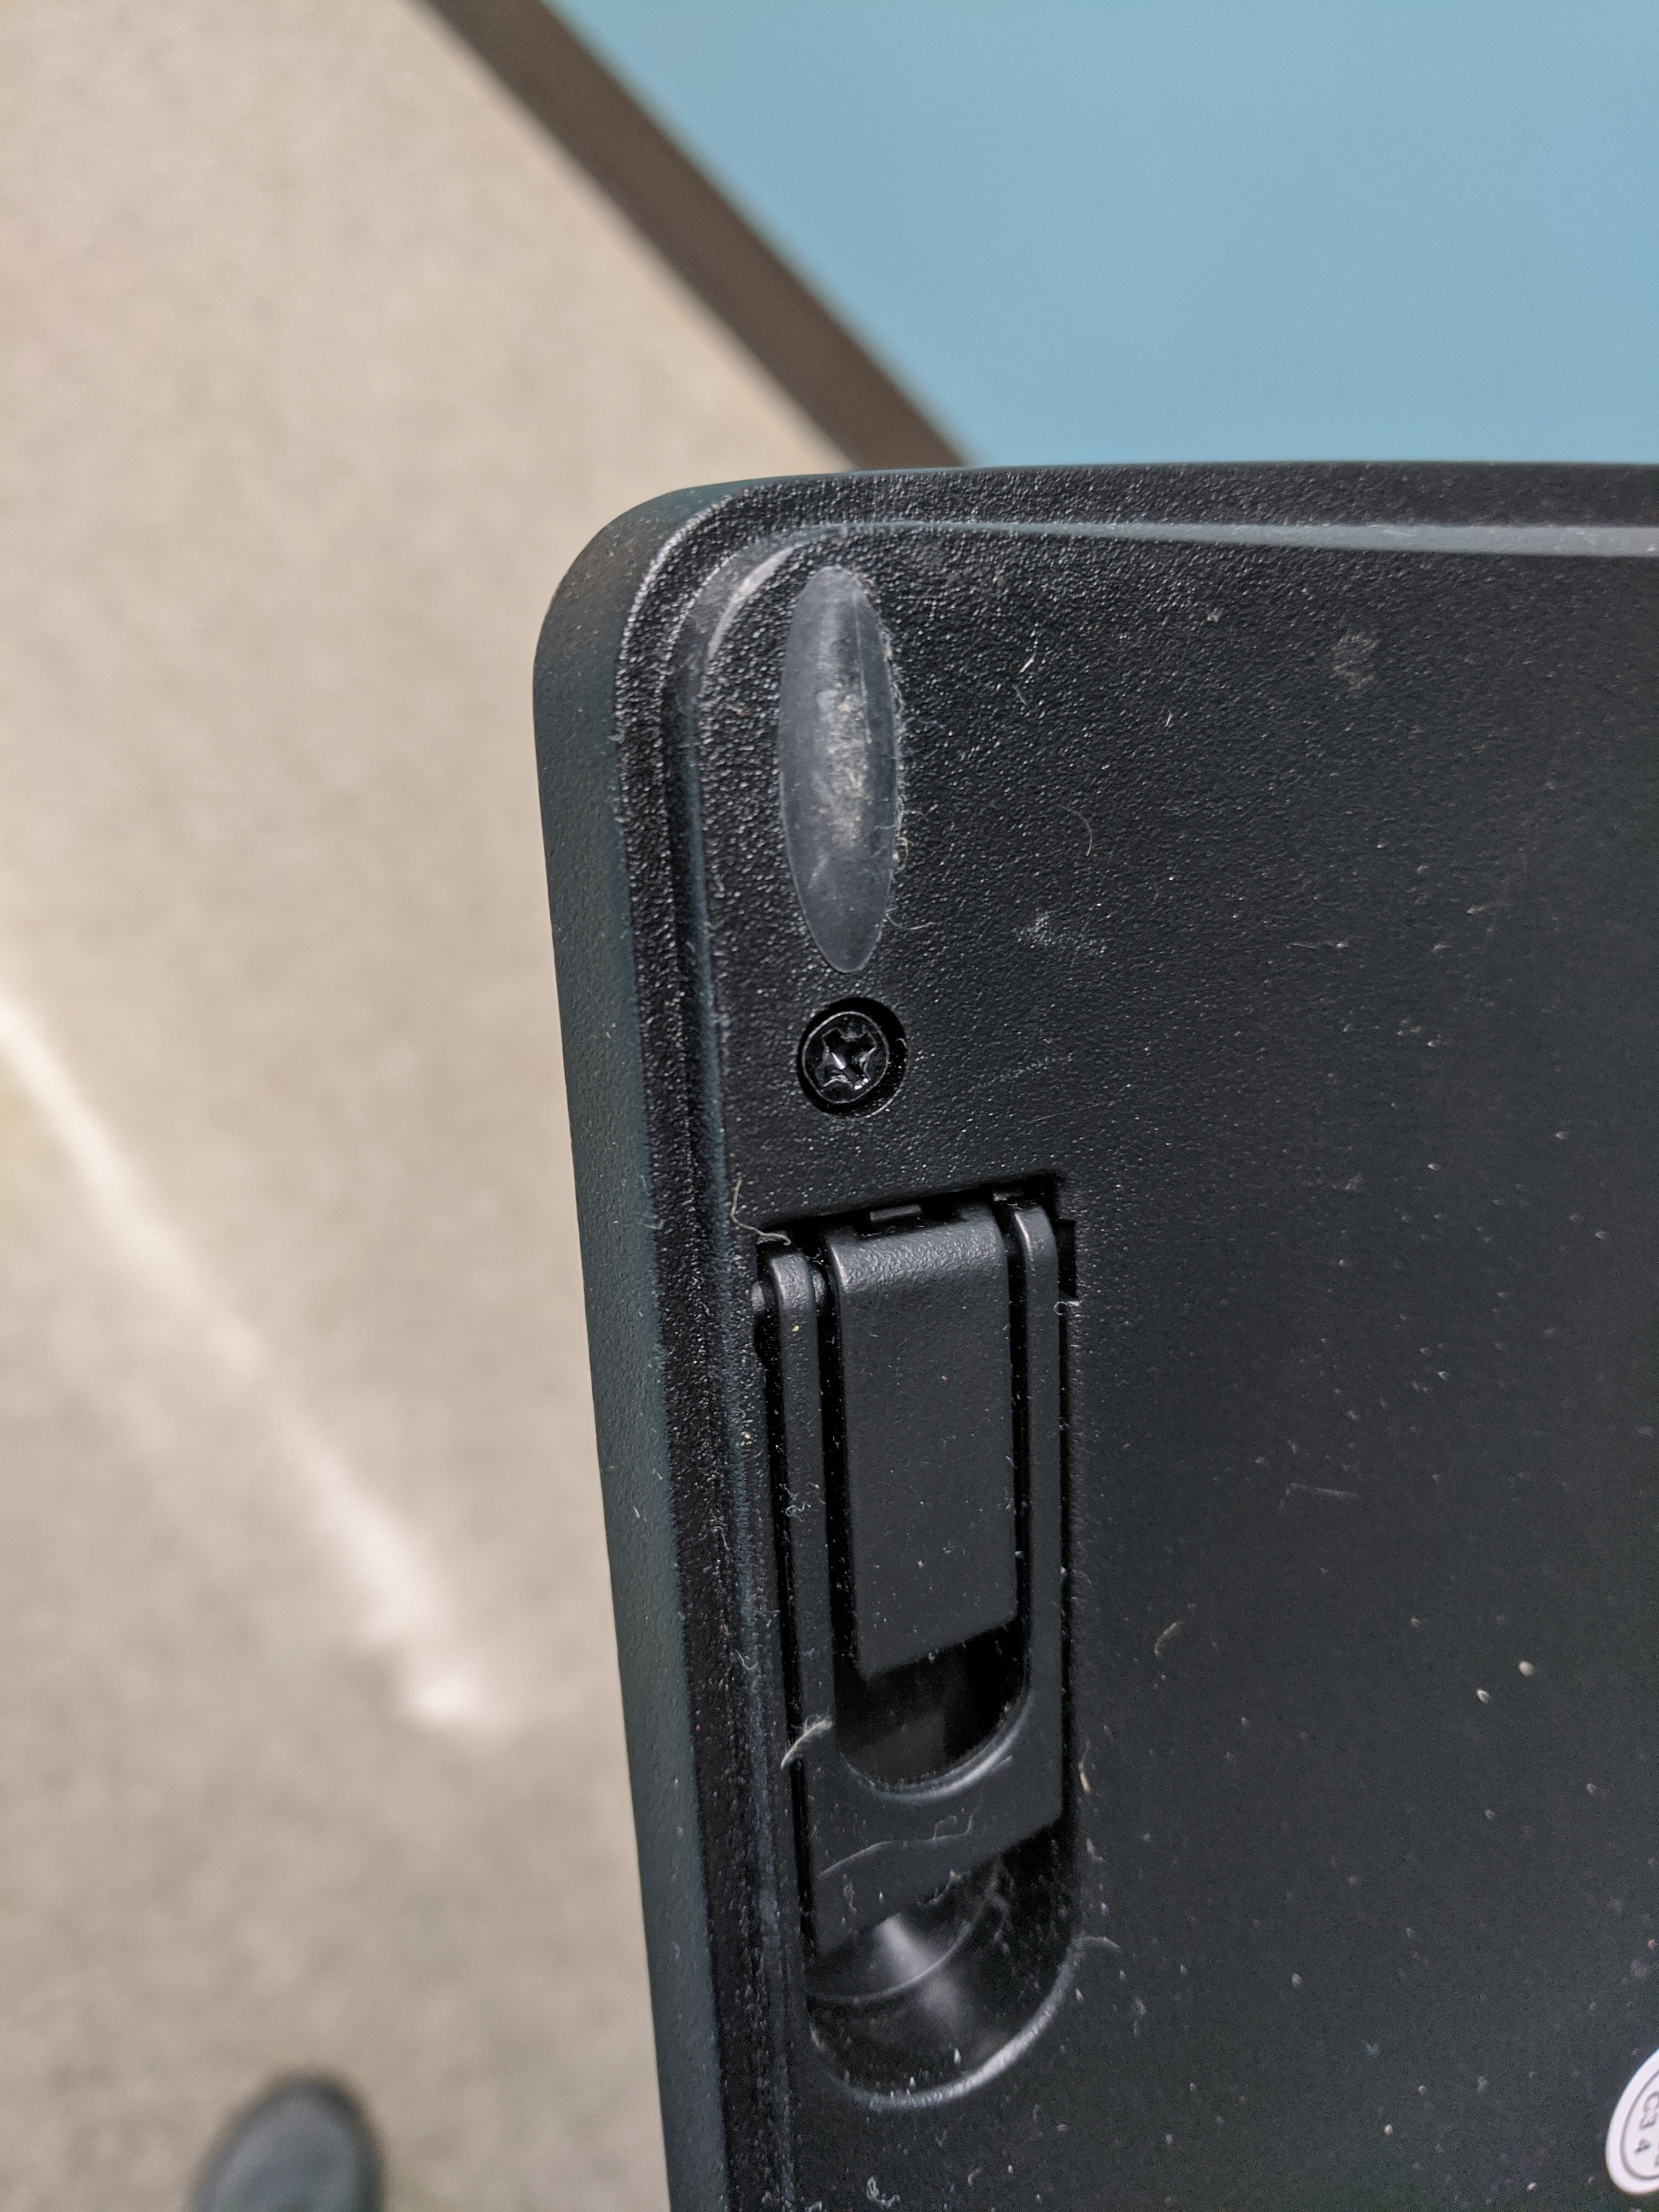cross_recessed_screw: (781, 984, 913, 1123)
